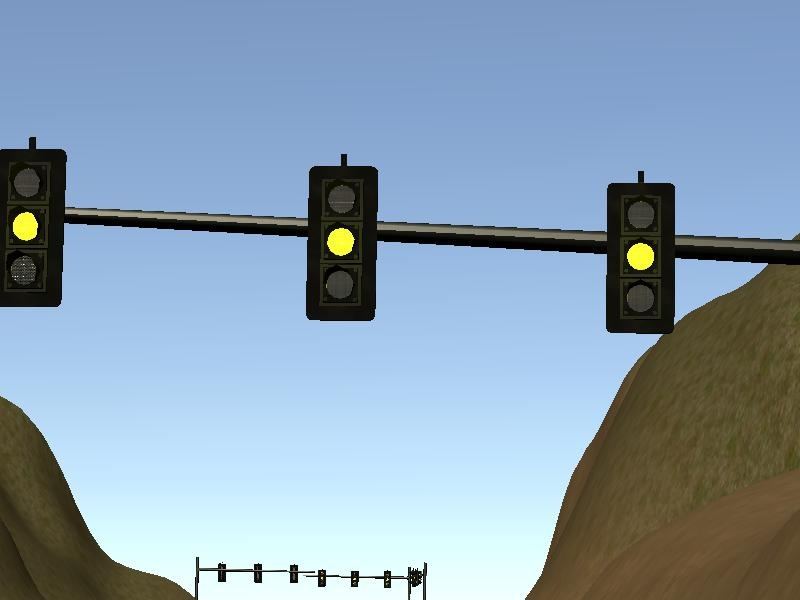yellow: (296, 147, 384, 326), (596, 163, 680, 340), (1, 136, 72, 305)
